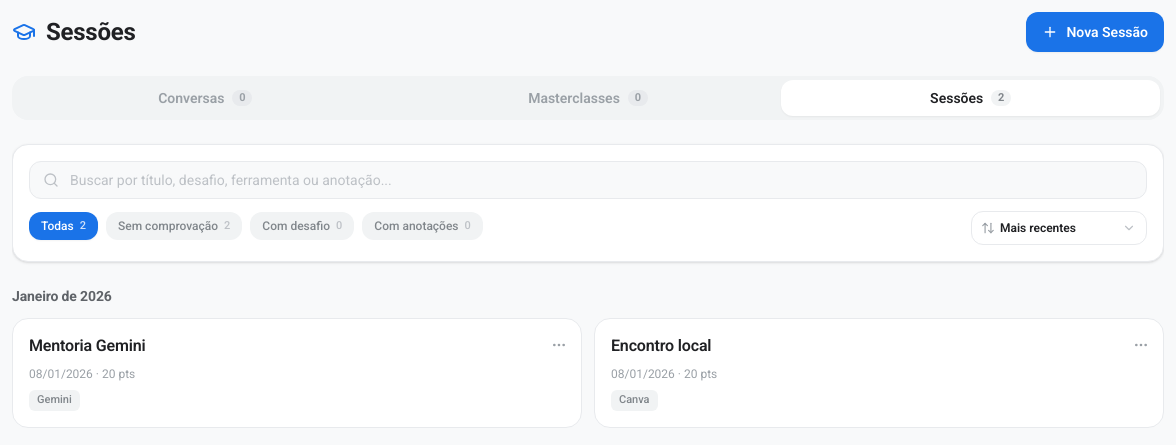
SessionsModule › filters sessions by title, challenge or tool learned
Type "gemini" into the search field named "Buscar sessões".
click(588, 180); type("gemini")  # box 29,161 -> 1147,199
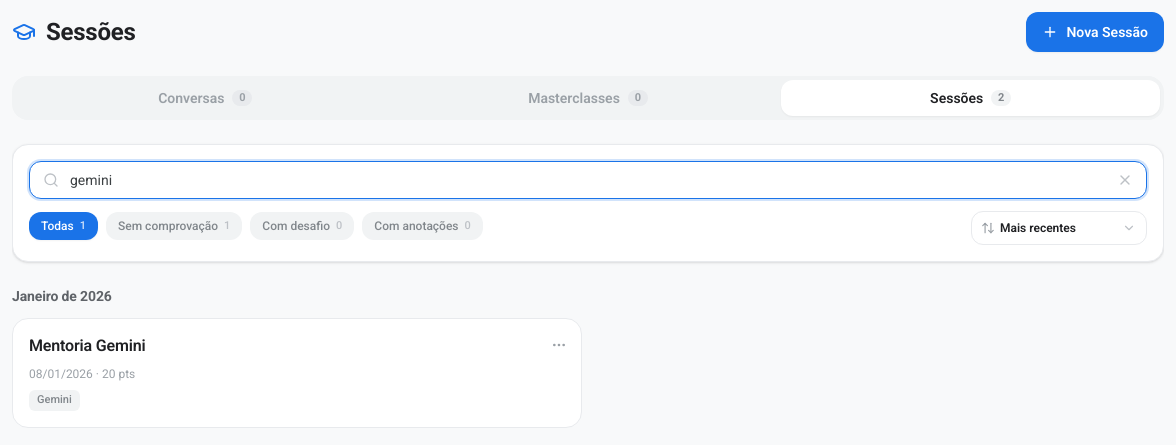
Check: the button "Mentoria Gemini" is shown, box 29,335 -> 146,357
Check: the button "Encontro local" is gone
